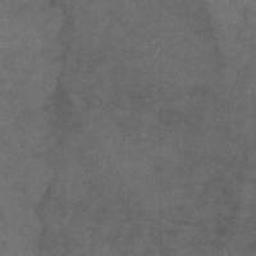Water spot: (36, 0, 256, 256)
